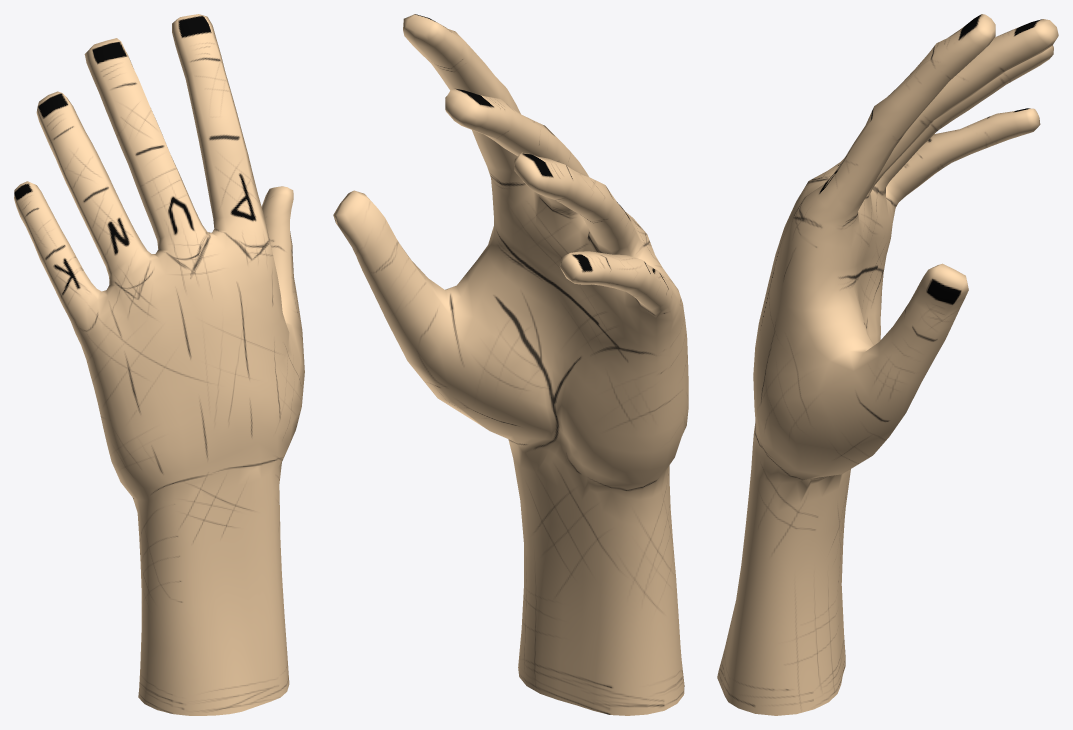
Rendered from hand left.fbx.
The picture shows the model from 3 angles, left to right: view 1: azimuth 30°, elevation 25°; view 2: azimuth 150°, elevation 25°; view 3: azimuth 270°, elevation 25°; orthographic projection. The views are drawn at different scales.
Visible parts, largest first — view 1: og; view 2: og; view 3: og.
Part boxes in pixels (x1,y1,x2,y2): og: (14, 14, 304, 715); og: (333, 14, 688, 715); og: (717, 14, 1058, 715).
Size of the model in its own units: 18.92 by 42.97 by 19.17.
1 material, 1 textured.
